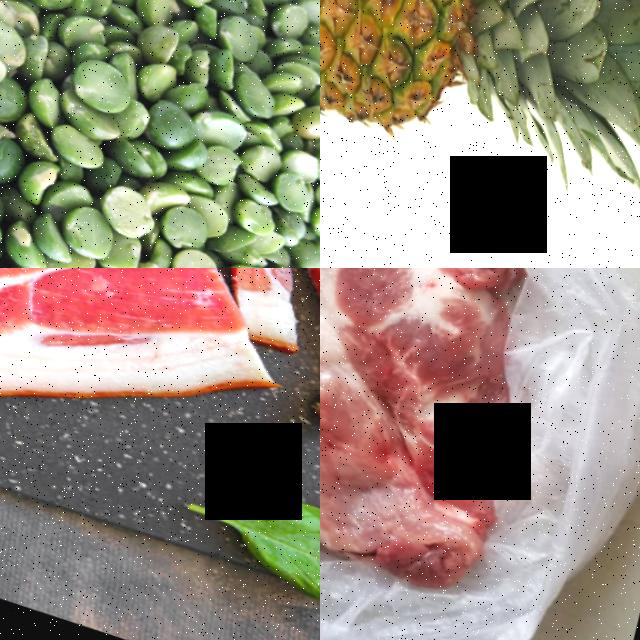peas: (0, 0, 320, 268)
pineapple: (320, 0, 617, 206)
pork belly: (320, 268, 602, 621), (0, 268, 311, 440), (218, 268, 320, 472), (0, 268, 105, 461)
